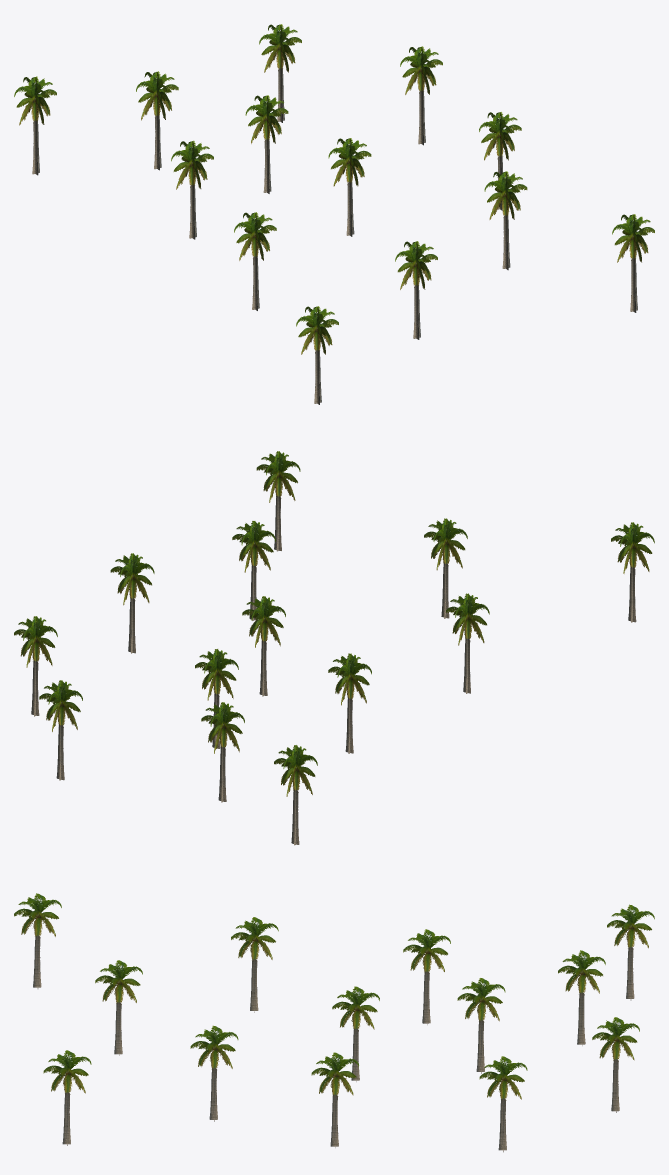
Rendered from trees-mesh.fbx.
The picture shows the model from 3 angles, top to bottom: view 1: azimuth 30°, elevation 25°; view 2: azimuth 150°, elevation 25°; view 3: azimuth 270°, elevation 25°; orthographic projection. The views are drawn at different scales.
Visible parts, largest first — view 1: plame tree012; view 2: plame tree012; view 3: plame tree012.
Boxes of the visible parts, x1,y1,x2,y2 form: plame tree012: (14, 24, 654, 404); plame tree012: (14, 451, 654, 845); plame tree012: (14, 893, 654, 1152).
Bounding box in the file's own units: 11366 × 2747 × 16813.
